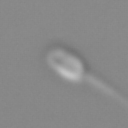normal: (87, 73, 127, 114)
